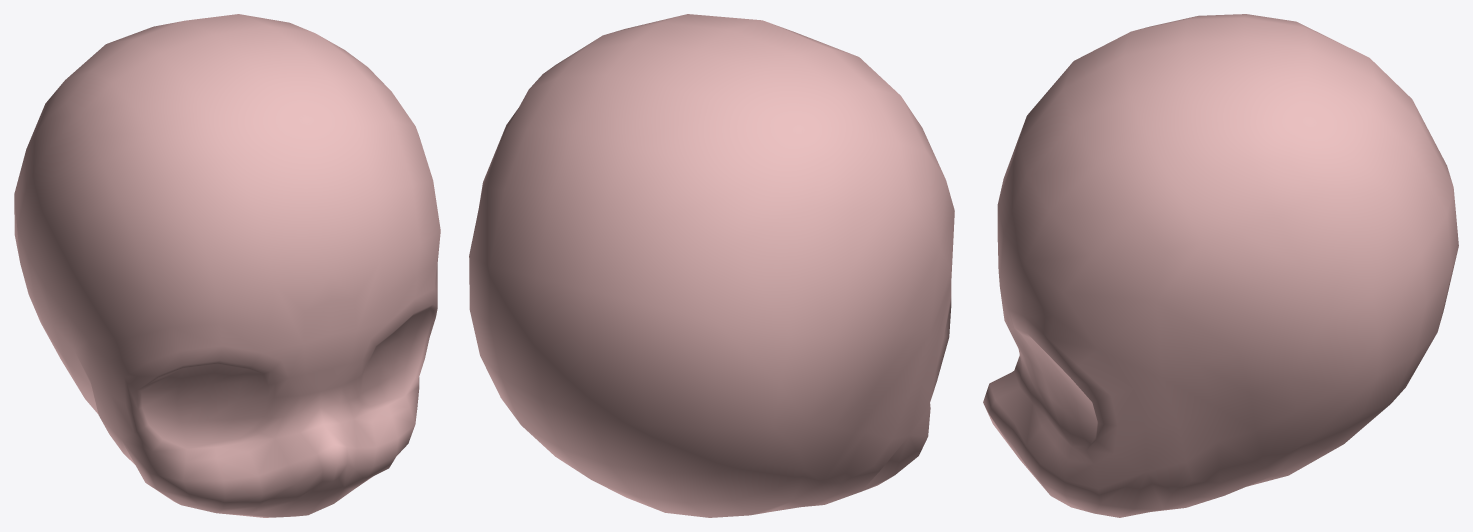
Rendered from Nendoroid_B_Head01.fbx.
3 views of the same model, side by side, from view 1: azimuth 30°, elevation 25°; view 2: azimuth 150°, elevation 25°; view 3: azimuth 270°, elevation 25° (orthographic). The views are drawn at different scales.
Visible parts, largest first — view 1: Nendoroid_B_Head01; view 2: Nendoroid_B_Head01; view 3: Nendoroid_B_Head01.
Part boxes in pixels (bbox=[...]): Nendoroid_B_Head01: bbox=[14, 14, 440, 517]; Nendoroid_B_Head01: bbox=[469, 14, 954, 517]; Nendoroid_B_Head01: bbox=[983, 14, 1458, 517].
Bounding box in the file's own units: 1.9 × 2.18 × 2.09.
